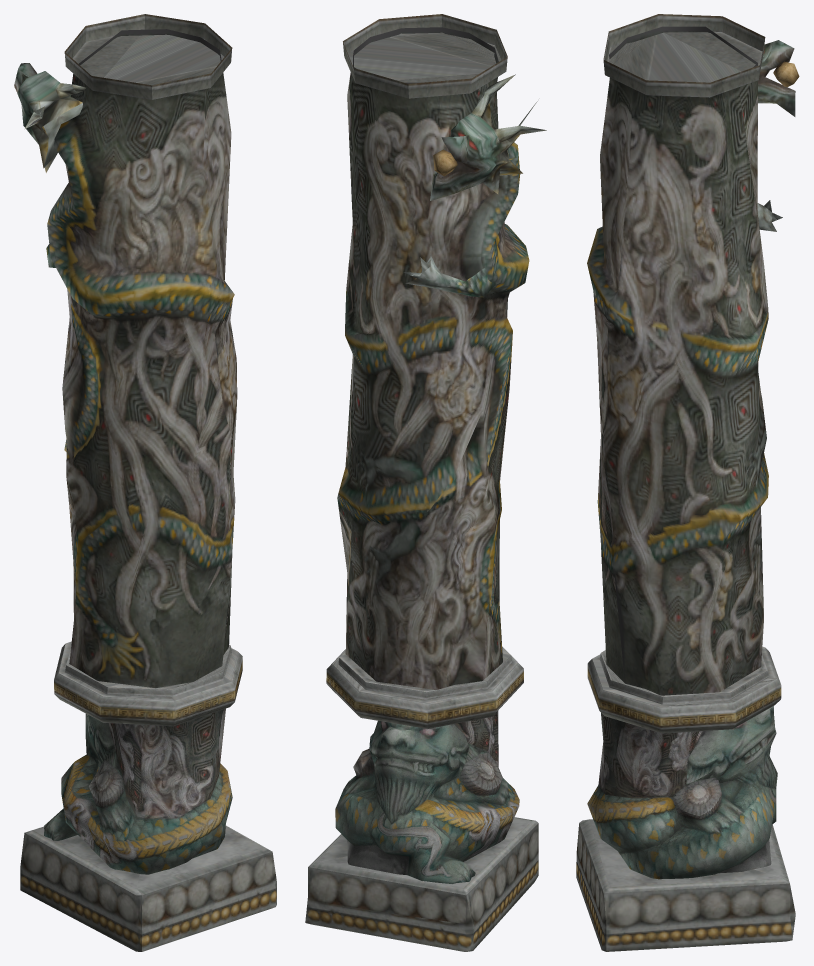
File: ZCxinshoucunjisi02.FBX
3 renders of one model, left to right at view 1: azimuth 30°, elevation 25°; view 2: azimuth 150°, elevation 25°; view 3: azimuth 270°, elevation 25°, orthographic.
Parts seen in each view (by area): view 1: Toemunjean_Tojisin_02_004, Toemunjean_Tojisin_02_003; view 2: Toemunjean_Tojisin_02_004, Toemunjean_Tojisin_02_003; view 3: Toemunjean_Tojisin_02_004, Toemunjean_Tojisin_02_003.
Boxes of the visible parts, x1,y1,x2,y2 form: Toemunjean_Tojisin_02_004: [14, 14, 276, 951]; Toemunjean_Tojisin_02_003: [44, 708, 232, 874]; Toemunjean_Tojisin_02_004: [305, 14, 546, 951]; Toemunjean_Tojisin_02_003: [335, 711, 519, 883]; Toemunjean_Tojisin_02_004: [576, 14, 799, 951]; Toemunjean_Tojisin_02_003: [587, 706, 777, 879].
Size of the model in its own units: 0.5852 by 2.24 by 0.524.
